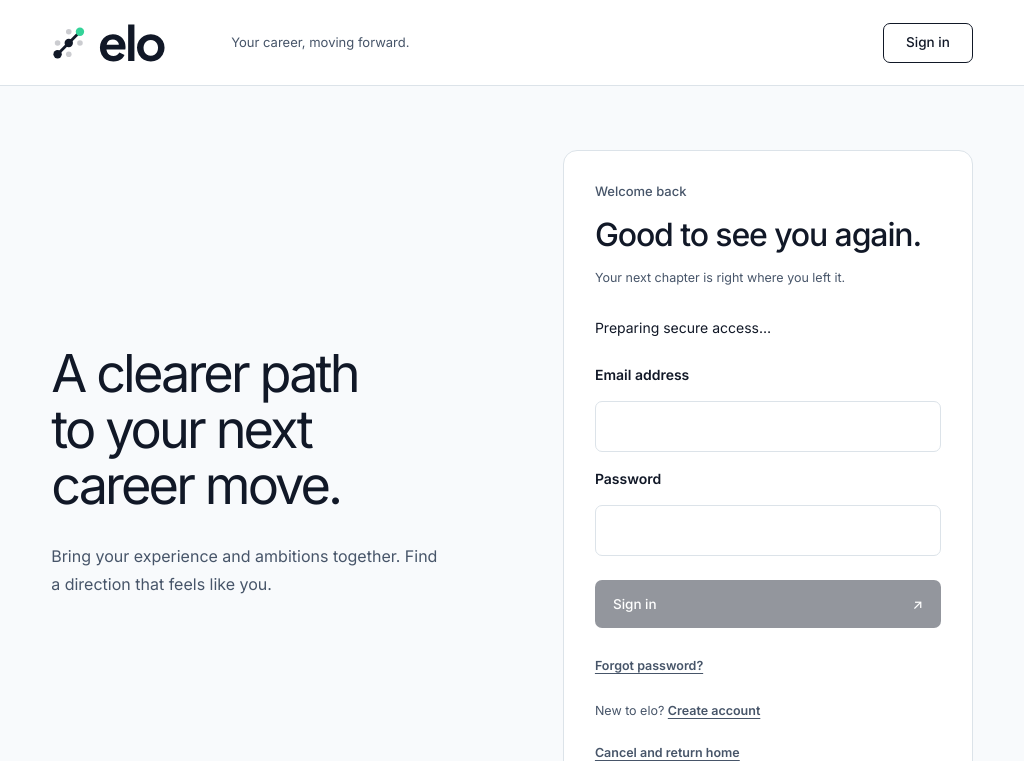
Test case: a 401 error retains sign-in recovery without a missing-account claim
Type "new@example.test" into the field labelled "Email address" at (768, 426), box [595, 401, 941, 452]
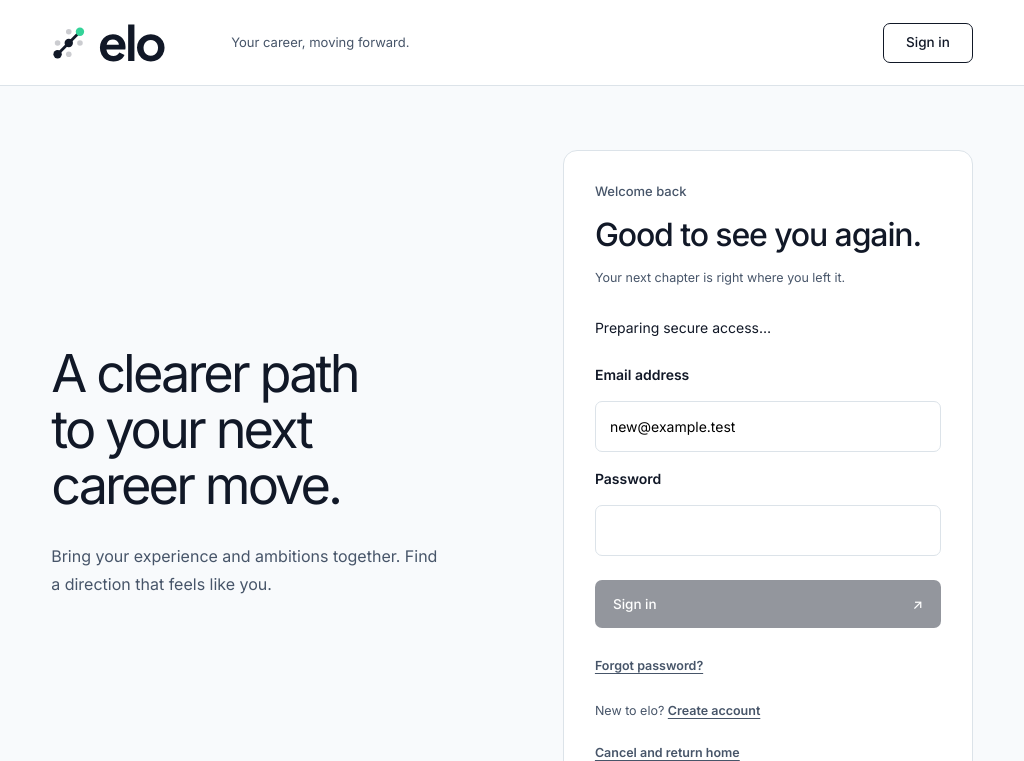
Type "Test1234" into the password field labelled "Password" at (768, 530), box [595, 505, 941, 556]
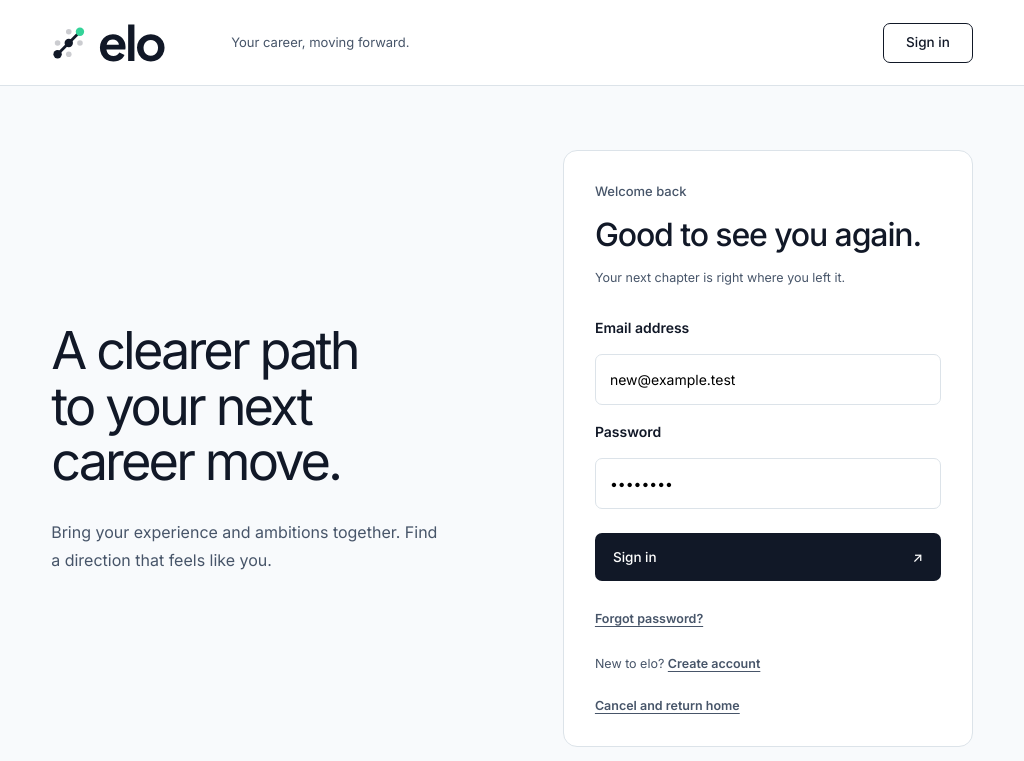
Check: the button "Sign in ↗" is enabled
Click the button "Sign in ↗" at (635, 557), box [595, 533, 941, 581]
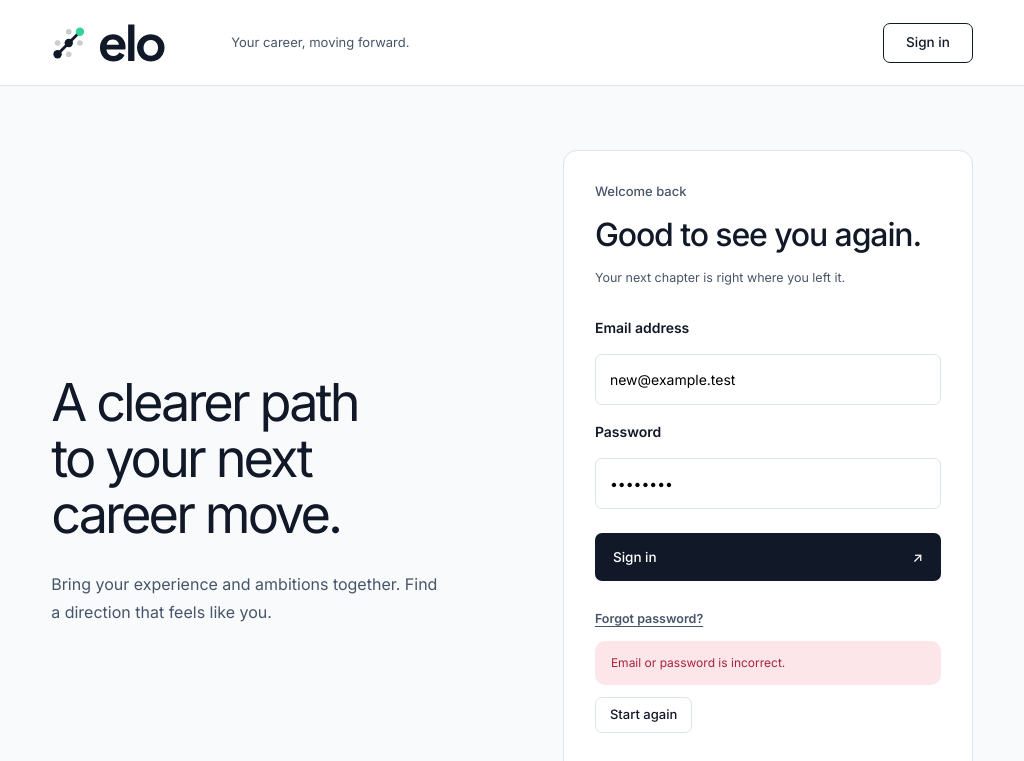
Check: the button "Start again" is enabled, box [595, 697, 692, 733]
